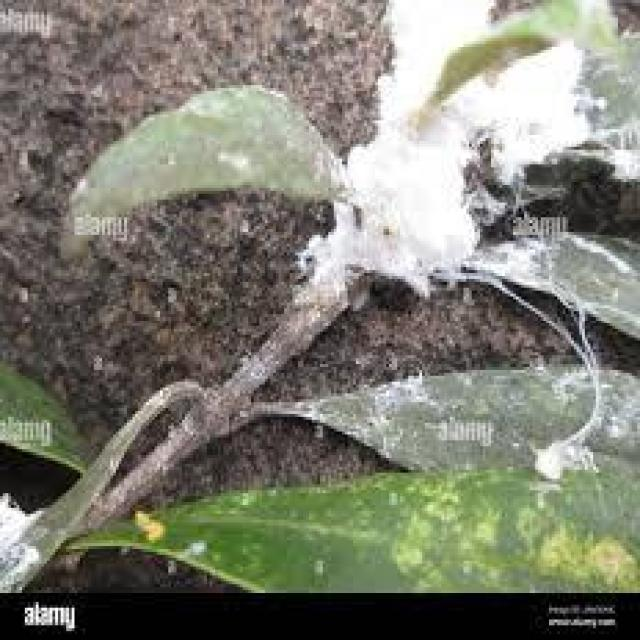Psyllid: (292, 0, 637, 302)
